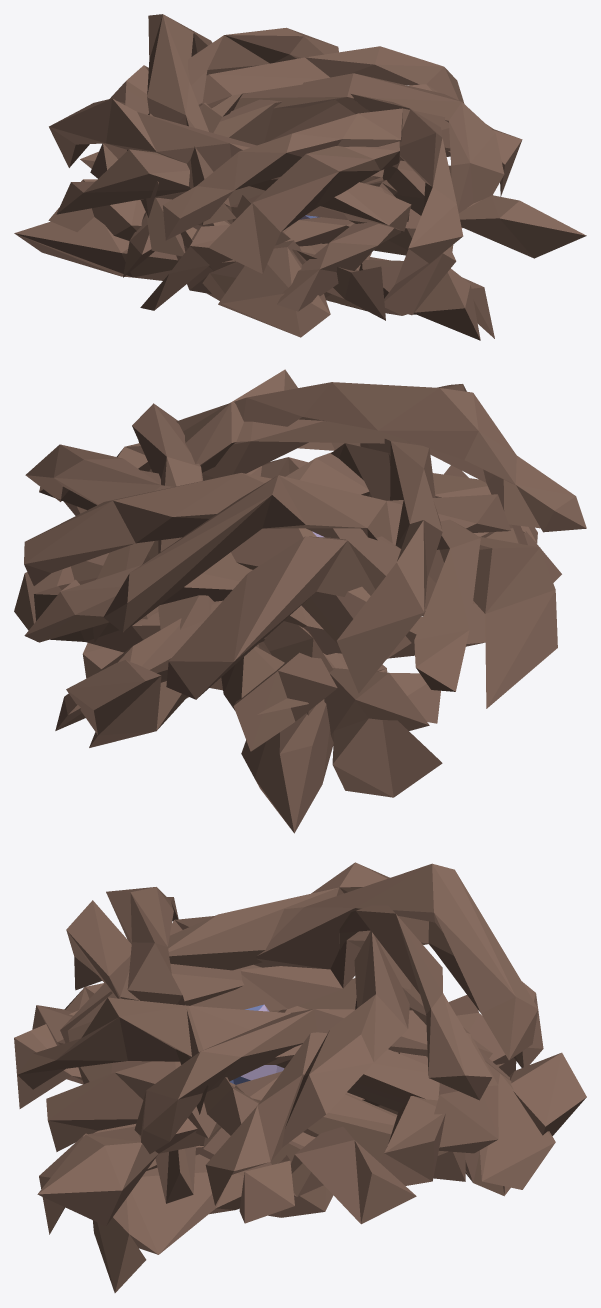
File: Nest_08.fbx
3 views of the same model, one above another, from view 1: azimuth 30°, elevation 25°; view 2: azimuth 150°, elevation 25°; view 3: azimuth 270°, elevation 25° (orthographic). The views are drawn at different scales.
Parts seen in each view (by area): view 1: Nest_08_LOD0; view 2: Nest_08_LOD0; view 3: Nest_08_LOD0.
Boxes of the visible parts, x1,y1,x2,y2 form: Nest_08_LOD0: (14, 14, 586, 340); Nest_08_LOD0: (14, 369, 586, 833); Nest_08_LOD0: (14, 862, 586, 1292).
Size of what is drawn, in the model's own units: 30.43 by 19.16 by 31.24.
